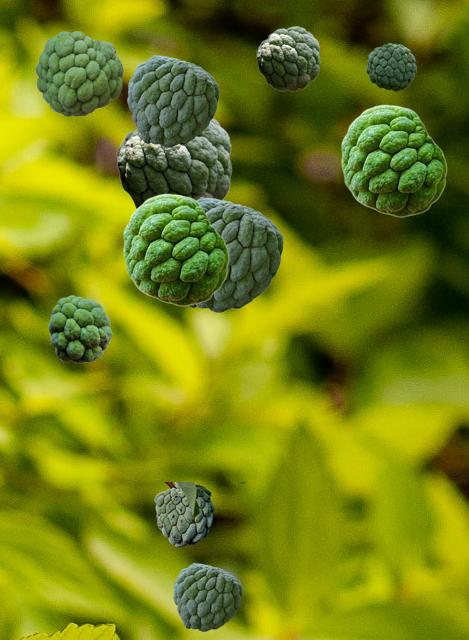atis: (341, 104, 446, 216), (123, 193, 228, 305), (188, 197, 282, 311), (116, 118, 231, 208), (127, 55, 218, 146), (35, 31, 122, 115), (154, 482, 245, 546), (173, 563, 241, 630), (48, 295, 111, 362), (256, 26, 319, 90), (366, 43, 415, 90)
